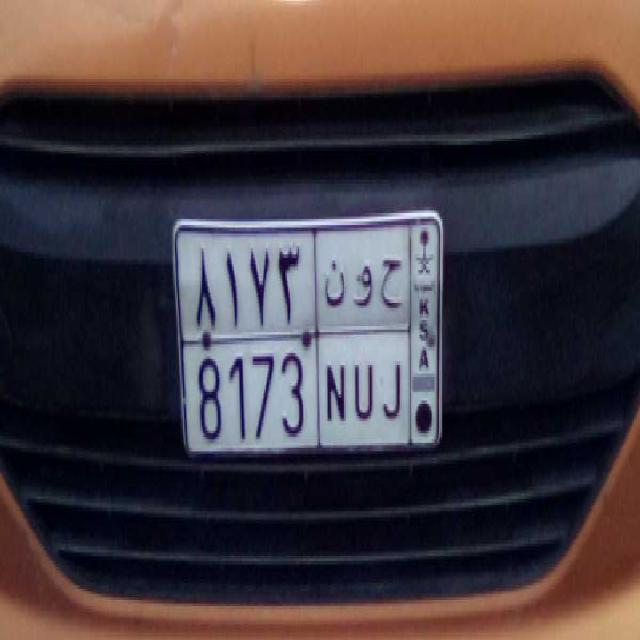license_plate: (185, 331, 411, 454)
